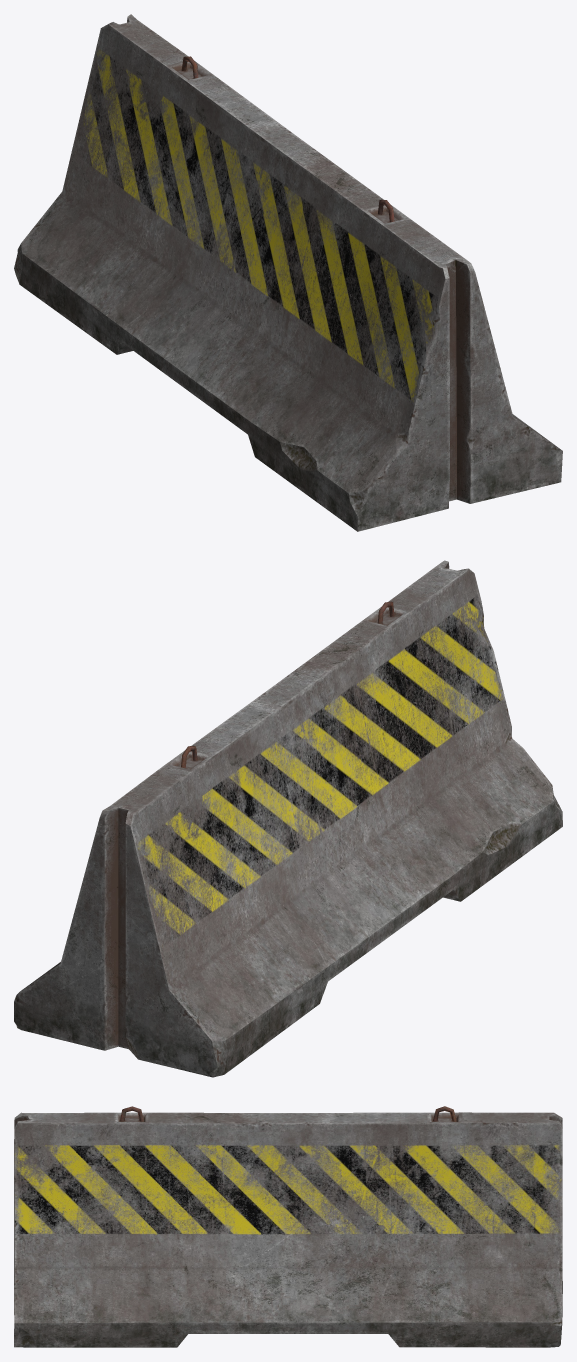
3 views of the same model, one above another, from view 1: azimuth 30°, elevation 25°; view 2: azimuth 150°, elevation 25°; view 3: azimuth 270°, elevation 25° (orthographic). The views are drawn at different scales.
Parts seen in each view (by area): view 1: LP1; view 2: LP1; view 3: LP1.
Part boxes in pixels (<box>): LP1: <box>14,14,562,531</box>; LP1: <box>14,560,562,1077</box>; LP1: <box>14,1106,562,1347</box>.
Bounding box in the file's own units: 59.81 × 69.87 × 173.
Materials: 1 (1 with a texture image).
